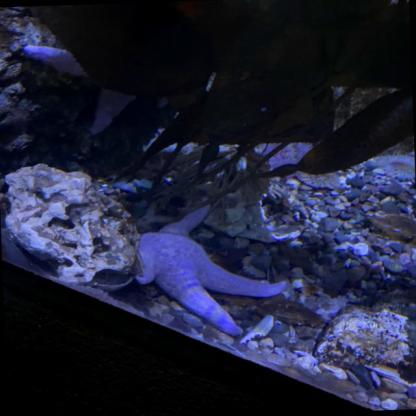starfish: (133, 200, 290, 340)
